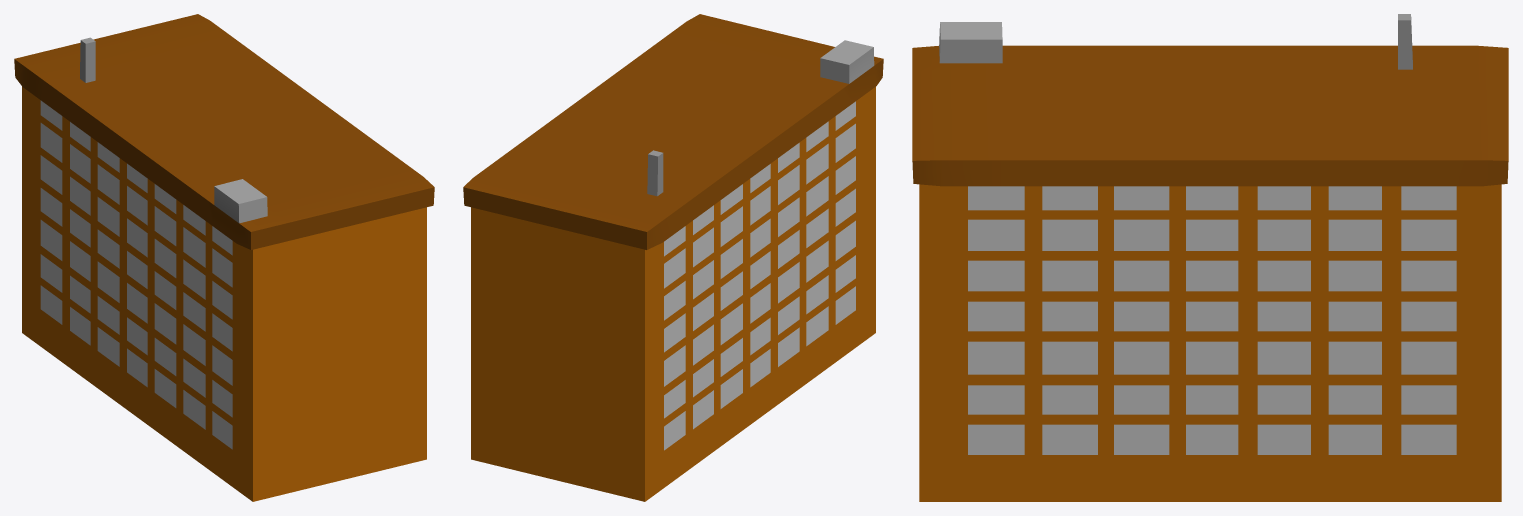
The model's file is Building1.fbx.
The picture shows the model from 3 angles, left to right: view 1: azimuth 30°, elevation 25°; view 2: azimuth 150°, elevation 25°; view 3: azimuth 270°, elevation 25°; orthographic projection. The views are drawn at different scales.
Visible parts, largest first — view 1: pCube2; view 2: pCube2; view 3: pCube2.
Boxes of the visible parts, bbox=[...] form: pCube2: bbox=[14, 14, 434, 501]; pCube2: bbox=[463, 14, 883, 501]; pCube2: bbox=[912, 14, 1508, 501].
Bounding box in the file's own units: 37.38 × 58.64 × 80.22.
